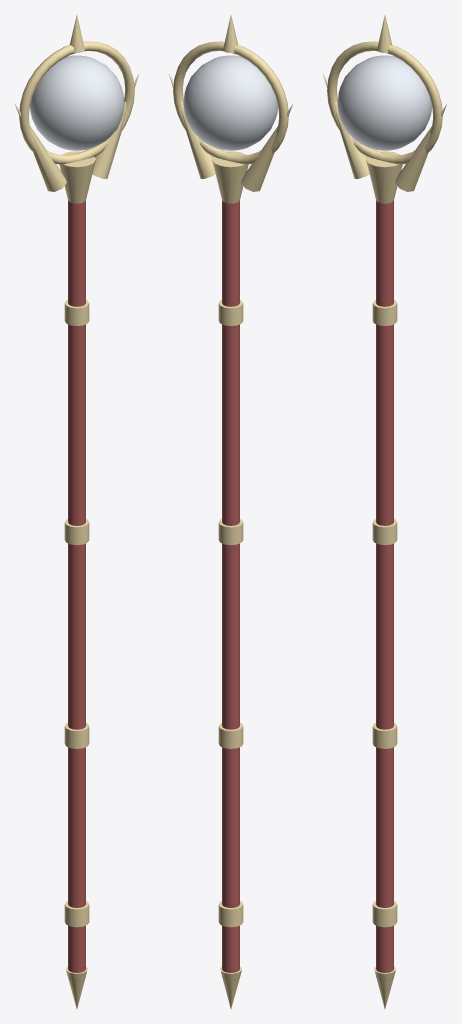
File: ember_right.glb
3 views of the same model, side by side, from view 1: azimuth 30°, elevation 25°; view 2: azimuth 150°, elevation 25°; view 3: azimuth 330°, elevation 25° (orthographic).
Parts seen in each view (by area): view 1: ember_right; view 2: ember_right; view 3: ember_right.
Boxes of the visible parts, x1,y1,x2,y2 form: ember_right: (15, 15, 139, 1008); ember_right: (168, 15, 292, 1008); ember_right: (322, 15, 446, 1008).
Bounding box in the file's own units: 0.257 × 1.96 × 0.17.
